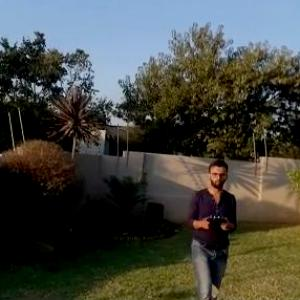follow: (184, 147, 241, 299)
